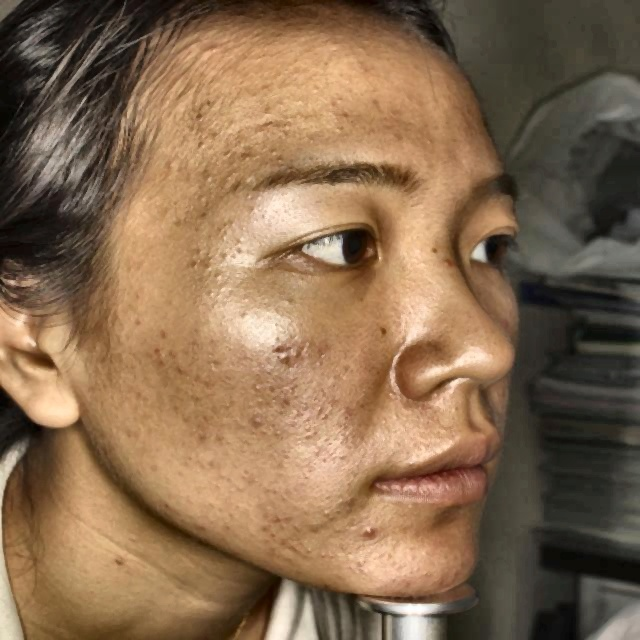comedone: (352, 515, 391, 543)
